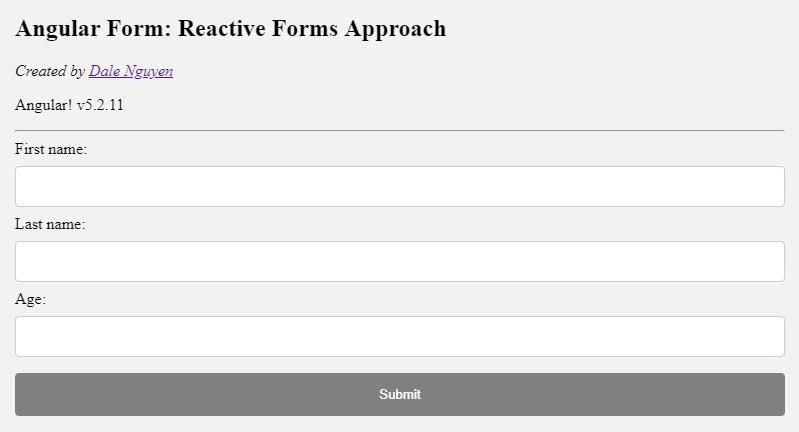button: (13, 371, 790, 418)
field: (14, 238, 788, 285), (12, 164, 789, 209), (12, 314, 787, 359)
field_with_label: (7, 140, 792, 213), (9, 214, 793, 287), (9, 293, 790, 361)
